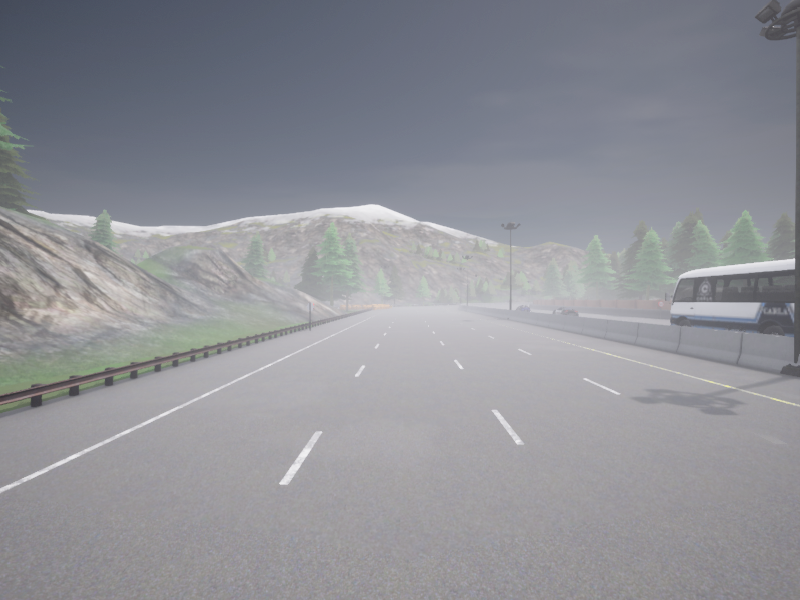vehicle: (665, 259, 794, 336), (552, 306, 577, 315), (516, 305, 529, 311)
